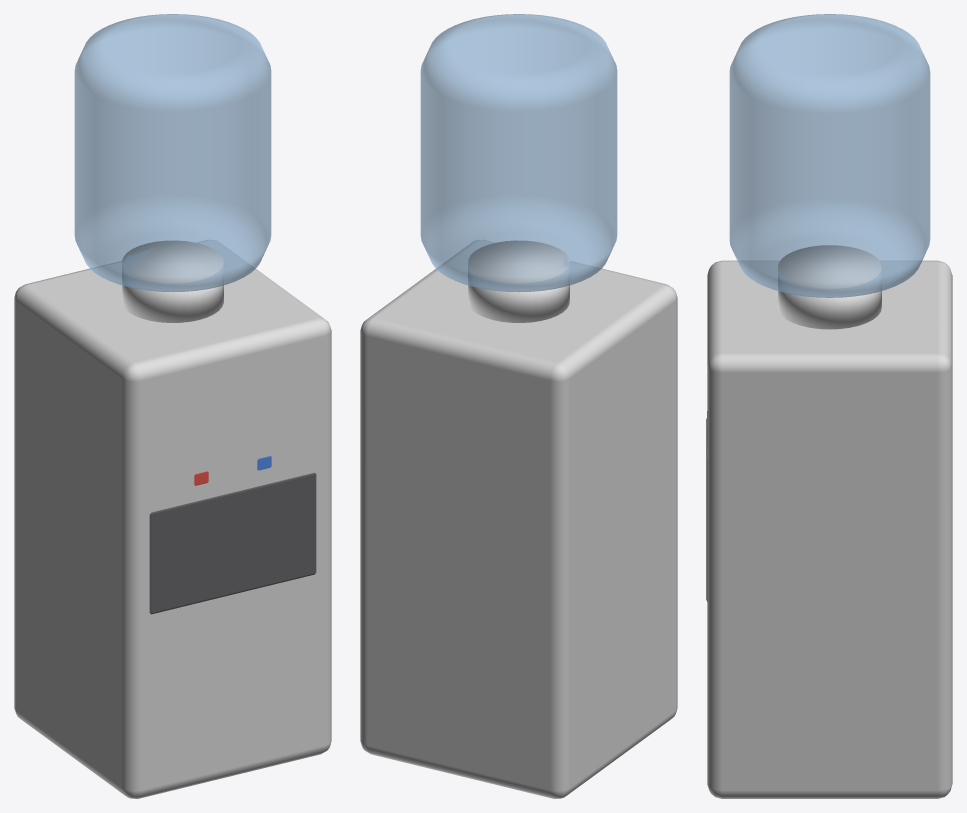
Rendered from water_dispenser.glb.
3 views of the same model, side by side, from view 1: azimuth 30°, elevation 25°; view 2: azimuth 150°, elevation 25°; view 3: azimuth 270°, elevation 25° (orthographic). The views are drawn at different scales.
Parts seen in each view (by area): view 1: Cube, Cylinder.001, Cube.001, Cylinder; view 2: Cube, Cylinder.001, Cylinder; view 3: Cube, Cylinder.001, Cylinder.
Part boxes in pixels (x1,y1,x2,y2): Cube: (14,240,331,798); Cylinder.001: (74,14,271,292); Cube.001: (149,472,316,614); Cylinder: (122,240,223,322); Cube: (360,240,677,798); Cylinder.001: (420,14,617,292); Cylinder: (468,240,569,322); Cube: (707,260,952,798); Cylinder.001: (729,14,930,297); Cylinder: (778,245,881,329).
Bounding box in the file's own units: 0.33 × 1.05 × 0.331.
